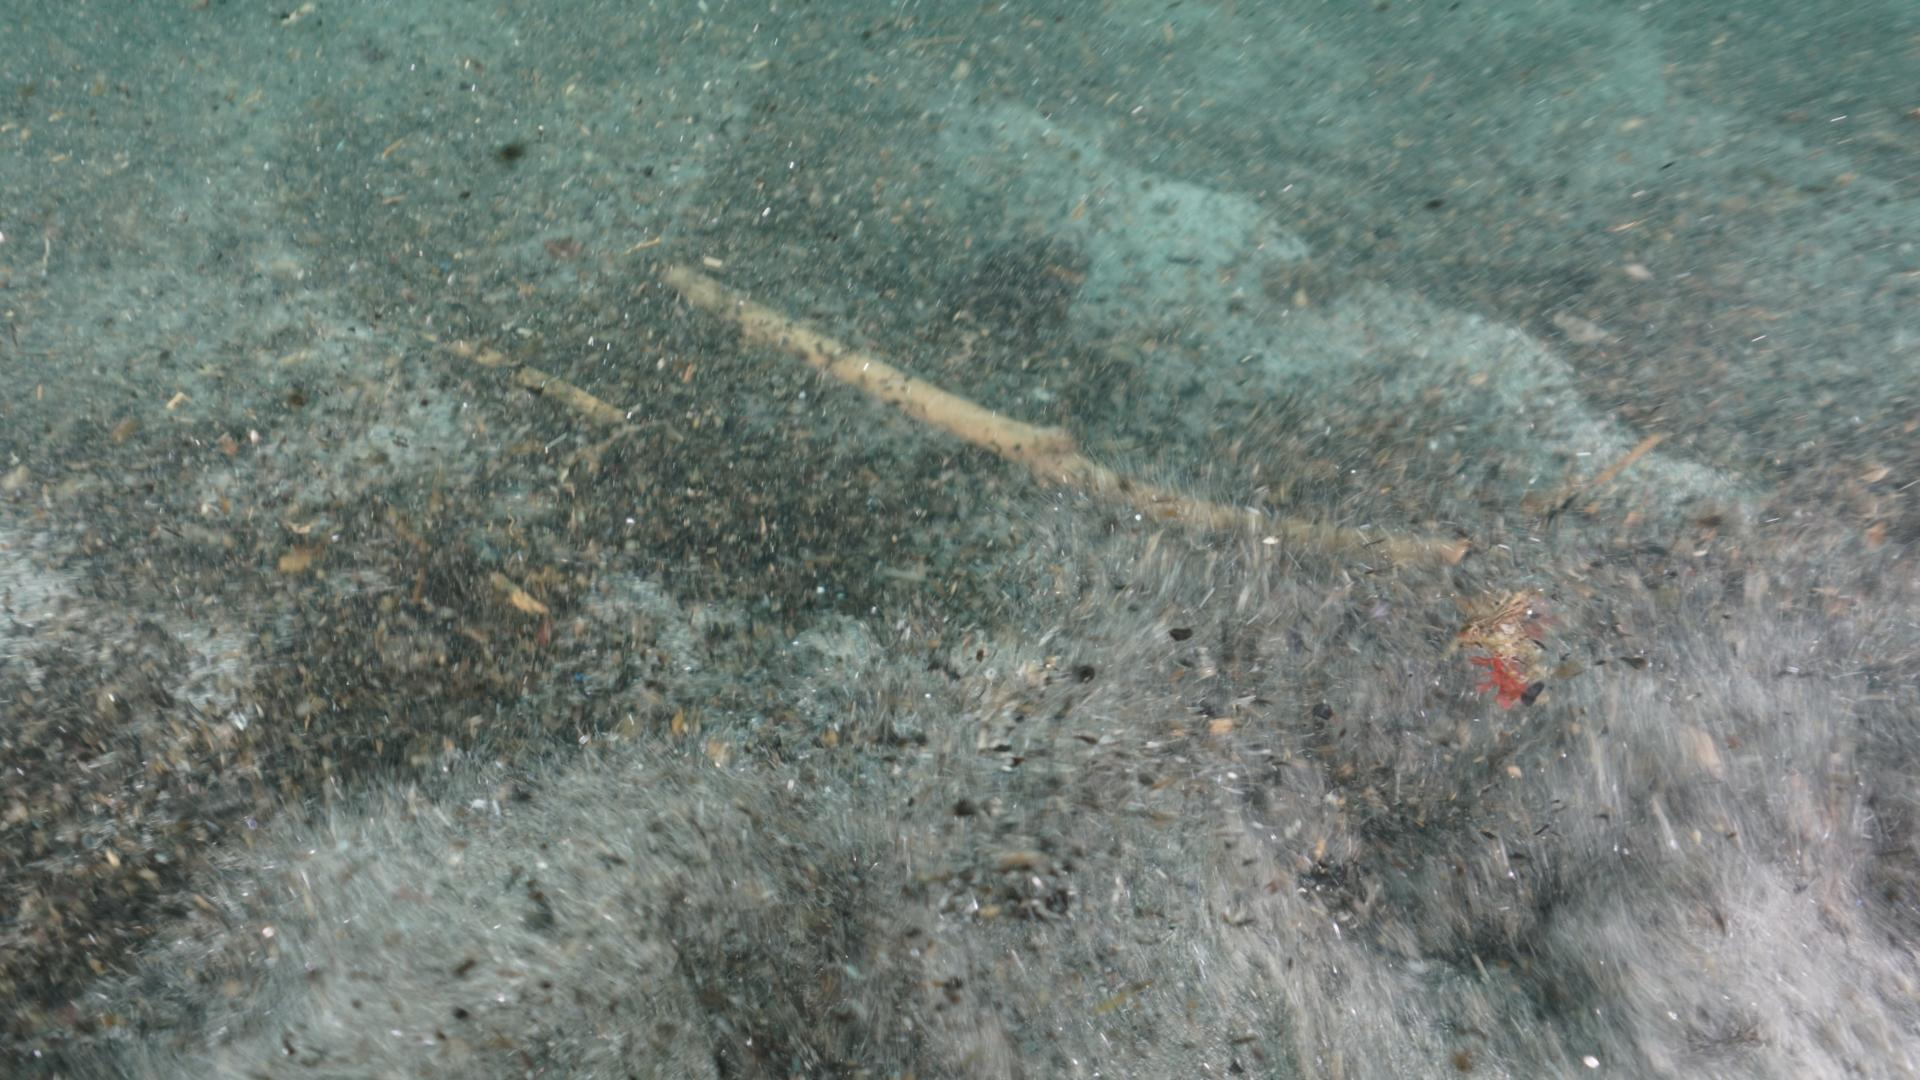wood: (655, 258, 1472, 567)
